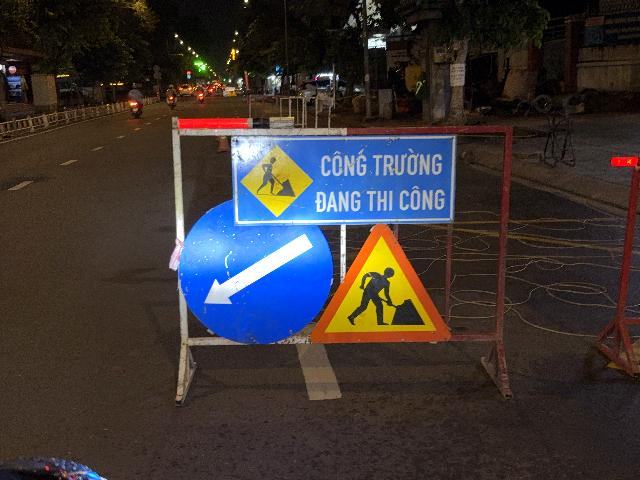cong-truong-dang-thi-cong: (310, 223, 452, 343)
huong-phai-di-vong-chuong-ngai-vat: (179, 199, 333, 345)
